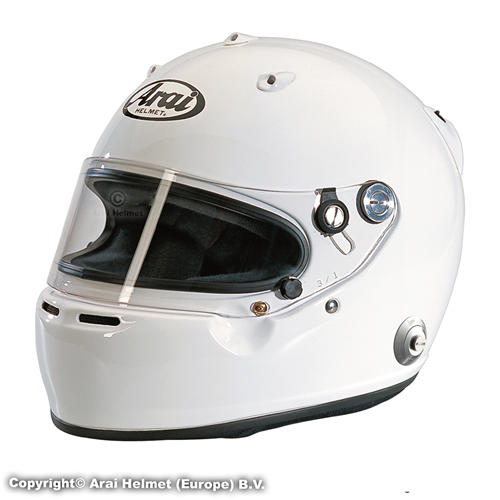helmet: (76, 49, 452, 409)
